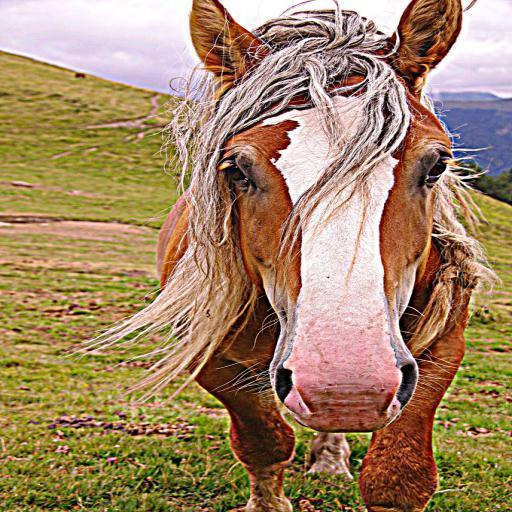horse: (60, 0, 507, 512)
